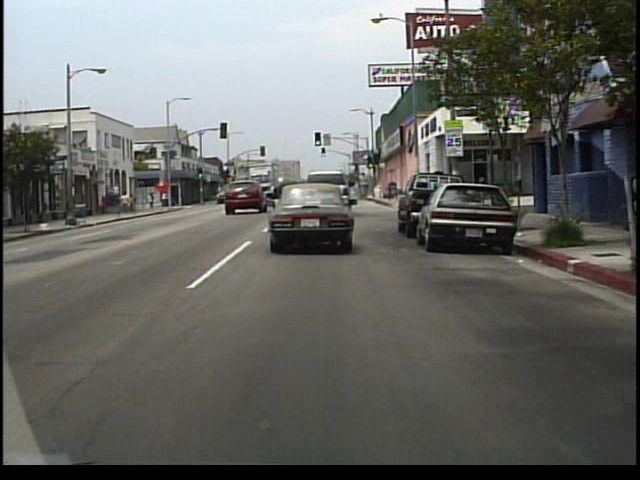person: (127, 192, 136, 216), (149, 190, 157, 210), (135, 193, 141, 214)
